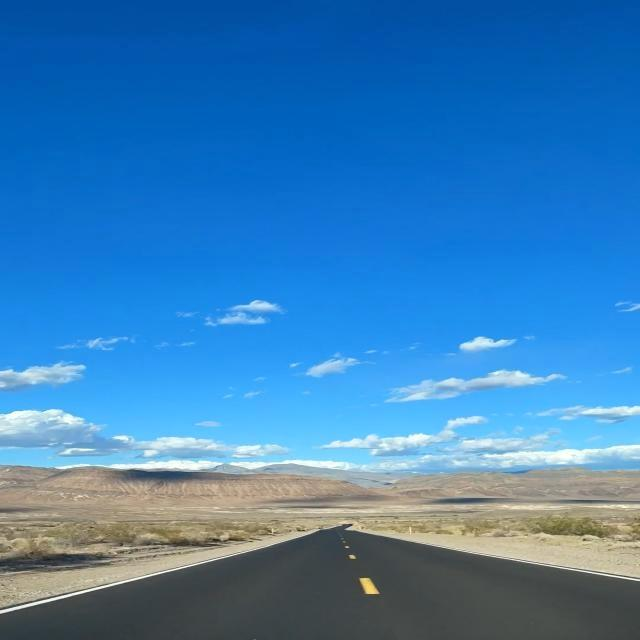road: (0, 525, 639, 639)
